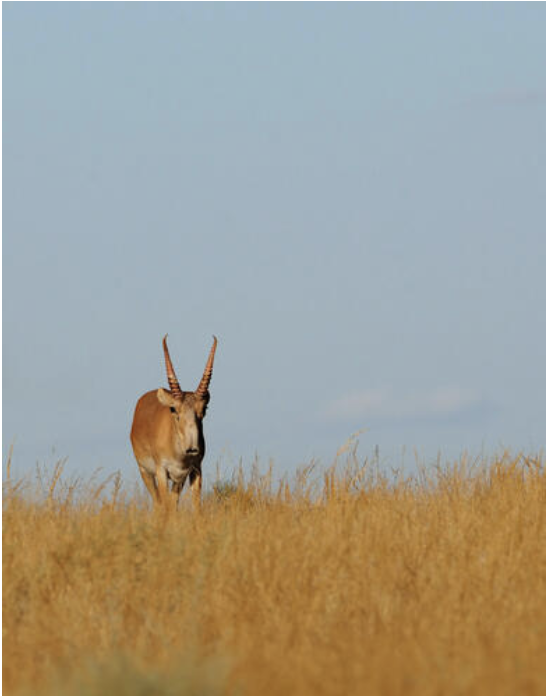saiga: (130, 328, 222, 516)
